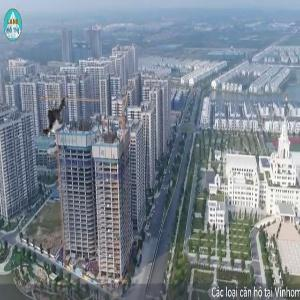drone: (30, 93, 81, 144)
